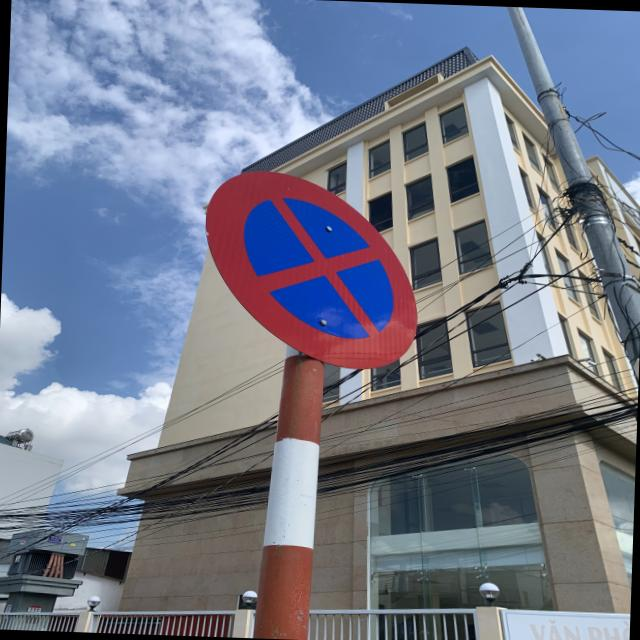Cam_O_To: (200, 168, 424, 370)
